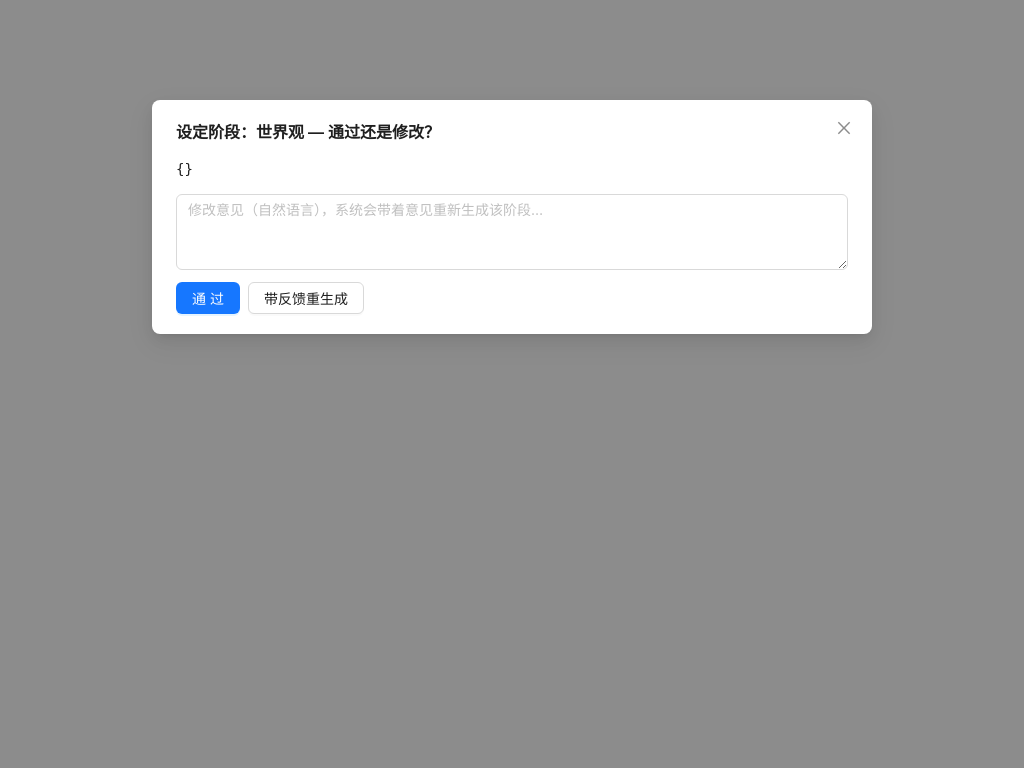
Scenario: failed feedback POST shows an error and records no phantom history (N1)
Type "基调更黑暗" into the text box with test id "gate-feedback" at (512, 232), box 176,194 -> 848,270
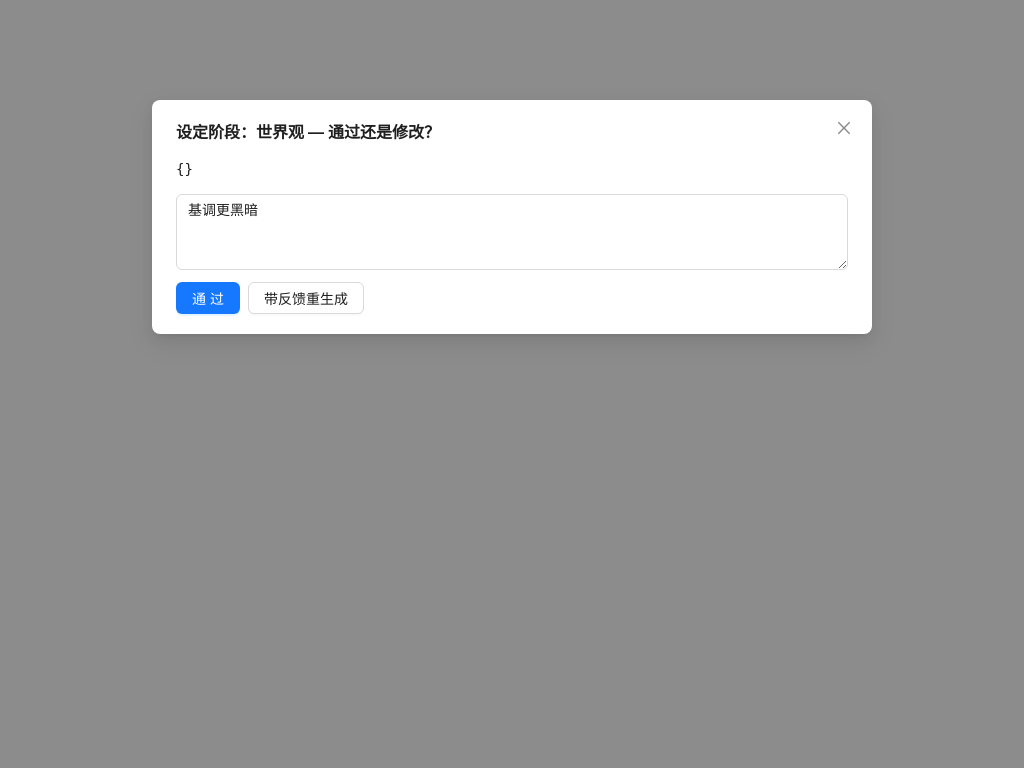
Click the button with test id "gate-reject" at (306, 298), box 248,282 -> 364,314
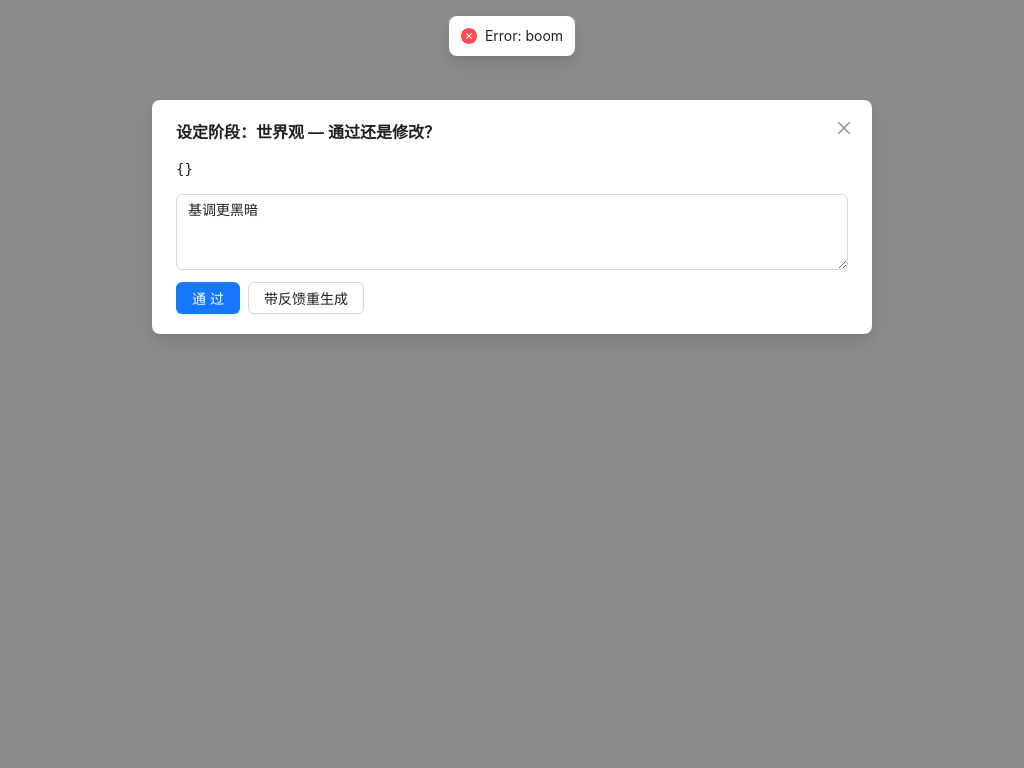
Expected: the text "Error: boom" is shown, 485,25 -> 563,47
